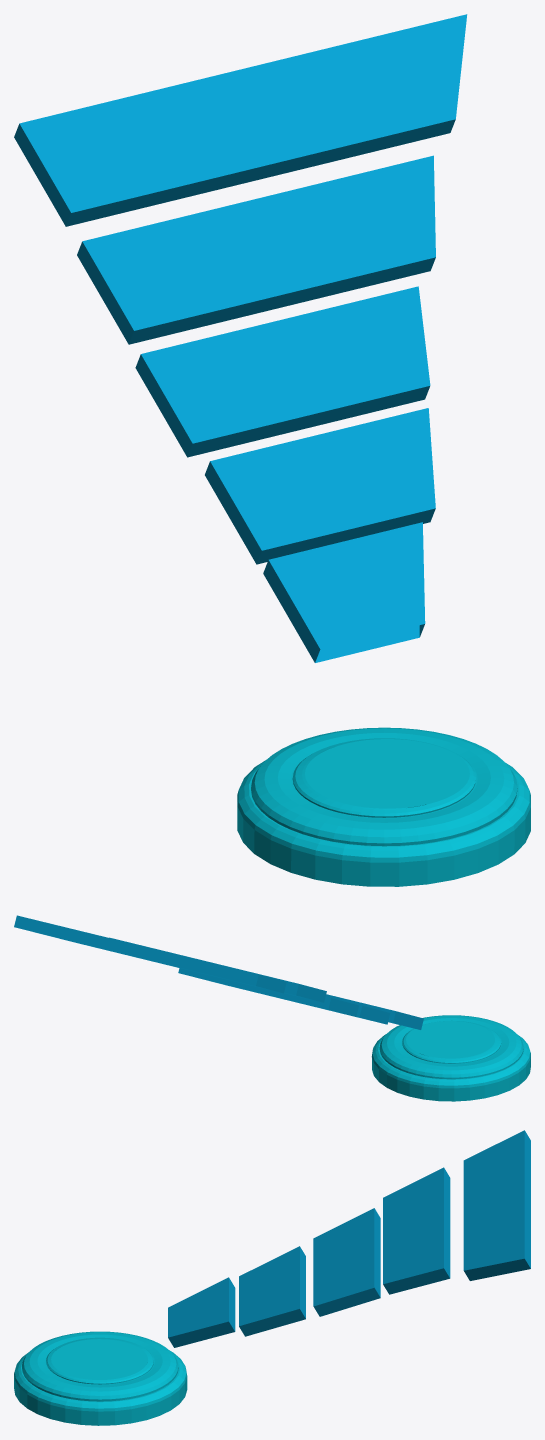
Rendered from menu 5B .fbx.
3 views of the same model, one above another, from view 1: azimuth 30°, elevation 25°; view 2: azimuth 150°, elevation 25°; view 3: azimuth 270°, elevation 25° (orthographic). The views are drawn at different scales.
Parts seen in each view (by area): view 1: Cube.009, Cube.000, Cube.004, Cube.005, Cube.003, Cube.002; view 2: Cube.004, Cube.009, Cube.005, Cube.000, Cube.002, Cube.003; view 3: Cube.004, Cube.009, Cube.000, Cube.005, Cube.003, Cube.002.
Boxes of the visible parts, <box> form: Cube.009: <box>14,14,467,226</box>; Cube.000: <box>77,155,435,344</box>; Cube.004: <box>237,727,530,886</box>; Cube.005: <box>135,286,430,457</box>; Cube.003: <box>205,408,435,564</box>; Cube.002: <box>263,522,425,662</box>; Cube.004: <box>371,1015,530,1101</box>; Cube.009: <box>14,915,286,993</box>; Cube.005: <box>178,968,358,1016</box>; Cube.000: <box>109,937,326,1002</box>; Cube.002: <box>325,994,423,1029</box>; Cube.003: <box>338,999,390,1024</box>; Cube.004: <box>14,1331,187,1425</box>; Cube.009: <box>463,1130,530,1280</box>; Cube.000: <box>383,1167,450,1294</box>; Cube.005: <box>313,1208,380,1316</box>; Cube.003: <box>239,1246,305,1336</box>; Cube.002: <box>168,1277,235,1347</box>.
Size of the model in its own units: 448 by 328 by 597.
